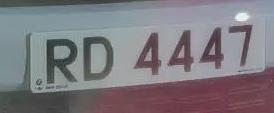4: (163, 22, 200, 81), (195, 19, 230, 80), (130, 27, 168, 82)
7: (228, 17, 261, 74)
D: (79, 32, 119, 85)
R: (40, 32, 83, 88)
